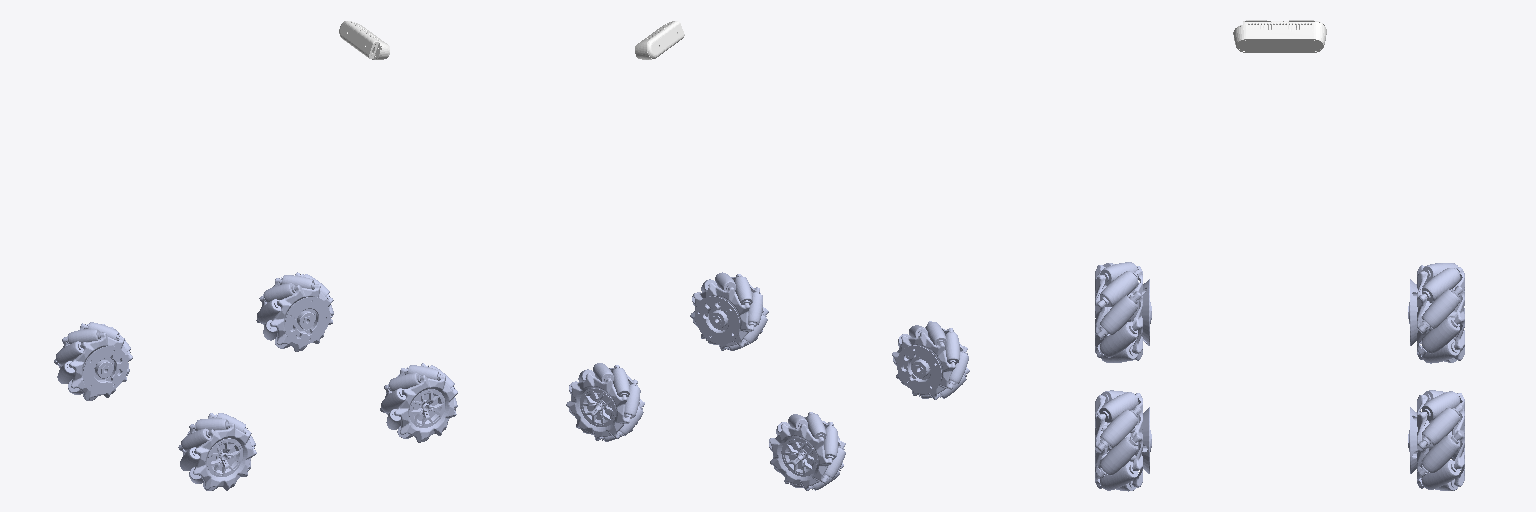
URDF robot description (bot):
<?xml version="1.0"?>
<!-- This URDF was automatically created by SolidWorks to URDF Exporter! Originally created by Stephen Brawner (brawner@gmail.com) 
     Commit Version: 1.6.0-4-g7f85cfe  Build Version: 1.6.7995.38578
     For more information, please see http://wiki.ros.org/sw_urdf_exporter -->
<robot
  name="bot">
  <link
    name="base_link">
    <inertial>
      <origin
        xyz="0.0090355 -0.00081058 0.054985"
        rpy="0 0 0" />
      <mass
        value="3.8106" />
      <inertia
        ixx="0.0099101"
        ixy="4.1861E-06"
        ixz="-2.3327E-05"
        iyy="0.0095546"
        iyz="1.2673E-06"
        izz="0.014844" />
    </inertial>
    <visual>
      <origin
        xyz="0 0 0"
        rpy="0 0 0" />
      <geometry>
        <mesh
          filename="package://bot_urdf/meshes/base_link.STL" />
      </geometry>
      <material
        name="">
        <color
          rgba="0.79216 0.81961 0.93333 1" />
      </material>
    </visual>
    <collision>
      <origin
        xyz="0 0 0"
        rpy="0 0 0" />
      <geometry>
        <mesh
          filename="package://bot_urdf/meshes/base_link.STL" />
      </geometry>
    </collision>
  </link>
  <link
    name="whl_1">
    <inertial>
      <origin
        xyz="-4.6546643535636E-05 0.0184649144401945 -9.60864166317521E-06"
        rpy="0 0 0" />
      <mass
        value="0.161925631703351" />
      <inertia
        ixx="2.91585888217252E-05"
        ixy="3.04375273962305E-08"
        ixz="-3.53176898294463E-09"
        iyy="3.99354081282925E-05"
        iyz="6.22129550900563E-09"
        izz="2.91745211707256E-05" />
    </inertial>
    <visual>
      <origin
        xyz="0 0 0"
        rpy="0 0 0" />
      <geometry>
        <mesh
          filename="package://bot_urdf/meshes/whl_1.STL" />
      </geometry>
      <material
        name="">
        <color
          rgba="0.792156862745098 0.819607843137255 0.933333333333333 1" />
      </material>
    </visual>
    <collision>
      <origin
        xyz="0 0 0"
        rpy="0 0 0" />
      <geometry>
        <mesh
          filename="package://bot_urdf/meshes/whl_1.STL" />
      </geometry>
    </collision>
  </link>
  <joint
    name="base_to_whl_1"
    type="continuous">
    <origin
      xyz="-0.14617 -0.17071 0.00893"
      rpy="0 0 0" />
    <parent
      link="base_link" />
    <child
      link="whl_1" />
    <axis
      xyz="0 1 0" />
  </joint>
  <link
    name="whl_2">
    <inertial>
      <origin
        xyz="-1.42304344429856E-05 0.0184648963324513 -4.53413374142814E-05"
        rpy="0 0 0" />
      <mass
        value="0.161925540652592" />
      <inertia
        ixx="2.91737150546211E-05"
        ixy="9.37189437559857E-09"
        ixz="-4.960431769033E-09"
        iyy="3.99353659653103E-05"
        iyz="2.96158387822672E-08"
        izz="2.91593473966099E-05" />
    </inertial>
    <visual>
      <origin
        xyz="0 0 0"
        rpy="0 0 0" />
      <geometry>
        <mesh
          filename="package://bot_urdf/meshes/whl_2.STL" />
      </geometry>
      <material
        name="">
        <color
          rgba="0.792156862745098 0.819607843137255 0.933333333333333 1" />
      </material>
    </visual>
    <collision>
      <origin
        xyz="0 0 0"
        rpy="0 0 0" />
      <geometry>
        <mesh
          filename="package://bot_urdf/meshes/whl_2.STL" />
      </geometry>
    </collision>
  </link>
  <joint
    name="base_to_whl_2"
    type="continuous">
    <origin
      xyz="0.14544 -0.17065 0.0088896"
      rpy="0 0 0" />
    <parent
      link="base_link" />
    <child
      link="whl_2" />
    <axis
      xyz="0 1 0" />
  </joint>
  <link
    name="whl_3">
    <inertial>
      <origin
        xyz="-4.75208019316276E-05 -0.018464912170312 2.07987491535055E-07"
        rpy="0 0 0" />
      <mass
        value="0.161925572925952" />
      <inertia
        ixx="2.91578320363315E-05"
        ixy="-3.10735992953256E-08"
        ixz="1.62865442558429E-10"
        iyy="3.99353787068514E-05"
        iyz="7.59677902960821E-11"
        izz="2.91752481149221E-05" />
    </inertial>
    <visual>
      <origin
        xyz="0 0 0"
        rpy="0 0 0" />
      <geometry>
        <mesh
          filename="package://bot_urdf/meshes/whl_3.STL" />
      </geometry>
      <material
        name="">
        <color
          rgba="0.792156862745098 0.819607843137255 0.933333333333333 1" />
      </material>
    </visual>
    <collision>
      <origin
        xyz="0 0 0"
        rpy="0 0 0" />
      <geometry>
        <mesh
          filename="package://bot_urdf/meshes/whl_3.STL" />
      </geometry>
    </collision>
  </link>
  <joint
    name="base_to_whl_3"
    type="continuous">
    <origin
      xyz="-0.14607 0.16884 0.008895"
      rpy="0 0 0" />
    <parent
      link="base_link" />
    <child
      link="whl_3" />
    <axis
      xyz="0 -1 0" />
  </joint>
  <link
    name="whl_4">
    <inertial>
      <origin
        xyz="3.89172170524588E-05 -0.0184649028365155 2.72989481698155E-05"
        rpy="0 0 0" />
      <mass
        value="0.161925524937385" />
      <inertia
        ixx="2.91634990423733E-05"
        ixy="2.53961263494293E-08"
        ixz="-8.19472232340164E-09"
        iyy="3.9935338181181E-05"
        iyz="1.78964048312848E-08"
        izz="2.91695348973513E-05" />
    </inertial>
    <visual>
      <origin
        xyz="0 0 0"
        rpy="0 0 0" />
      <geometry>
        <mesh
          filename="package://bot_urdf/meshes/whl_4.STL" />
      </geometry>
      <material
        name="">
        <color
          rgba="0.792156862745098 0.819607843137255 0.933333333333333 1" />
      </material>
    </visual>
    <collision>
      <origin
        xyz="0 0 0"
        rpy="0 0 0" />
      <geometry>
        <mesh
          filename="package://bot_urdf/meshes/whl_4.STL" />
      </geometry>
    </collision>
  </link>
  <joint
    name="base_to_whl_4"
    type="continuous">
    <origin
      xyz="0.14531 0.16879 0.0089084"
      rpy="0 0 0" />
    <parent
      link="base_link" />
    <child
      link="whl_4" />
    <axis
      xyz="0 -1 0" />
  </joint>
  <link
    name="camera">
    <inertial>
      <origin
        xyz="0 0 0"
        rpy="0 0 0" />
      <mass
        value="0.01" />
      <inertia
        ixx="1e-06"
        ixy="0"
        ixz="0"
        iyy="1e-06"
        iyz="0"
        izz="1e-06" />
    </inertial>
    <visual>
      <origin
        xyz="0 0 0"
        rpy="0 0 0" />
      <geometry>
        <mesh
          filename="package://bot_urdf/meshes/camera.STL" />
      </geometry>
      <material
        name="">
        <color
          rgba="1 1 1 1" />
      </material>
    </visual>
    <collision>
      <origin
        xyz="0 0 0"
        rpy="0 0 0" />
      <geometry>
        <mesh
          filename="package://bot_urdf/meshes/camera.STL" />
      </geometry>
    </collision>
  </link>
  <joint
    name="base_to_camera"
    type="fixed">
    <origin
      xyz="0.16726 -0.00092784 0.43836"
      rpy="0 0.38397 0" />
    <parent
      link="base_link" />
    <child
      link="camera" />
    <axis
      xyz="0 0 0" />
  </joint>

  <!-- ============ Gazebo: surface friction for wheels ============ -->
  <gazebo reference="whl_1">
    <mu1>1.0</mu1>
    <mu2>1.0</mu2>
    <kp>500000.0</kp>
    <kd>10.0</kd>
  </gazebo>
  <gazebo reference="whl_2">
    <mu1>1.0</mu1>
    <mu2>1.0</mu2>
    <kp>500000.0</kp>
    <kd>10.0</kd>
  </gazebo>
  <gazebo reference="whl_3">
    <mu1>1.0</mu1>
    <mu2>1.0</mu2>
    <kp>500000.0</kp>
    <kd>10.0</kd>
  </gazebo>
  <gazebo reference="whl_4">
    <mu1>1.0</mu1>
    <mu2>1.0</mu2>
    <kp>500000.0</kp>
    <kd>10.0</kd>
  </gazebo>

  <!-- ============ Gazebo: holonomic planar move (mecanum) ============ -->
  <gazebo>
    <plugin name="bot_planar_move" filename="libgazebo_ros_planar_move.so">
      <ros>
        <remapping>cmd_vel:=cmd_vel</remapping>
        <remapping>odom:=odom</remapping>
      </ros>
      <update_rate>50</update_rate>
      <publish_rate>50</publish_rate>
      <publish_odom>true</publish_odom>
      <publish_odom_tf>true</publish_odom_tf>
      <odometry_frame>odom</odometry_frame>
      <robot_base_frame>base_link</robot_base_frame>
    </plugin>
  </gazebo>

  <!-- ============ Gazebo: joint state publisher ============ -->
  <gazebo>
    <plugin name="bot_joint_state" filename="libgazebo_ros_joint_state_publisher.so">
      <ros>
        <remapping>~/out:=joint_states</remapping>
      </ros>
      <update_rate>50</update_rate>
      <joint_name>base_to_whl_1</joint_name>
      <joint_name>base_to_whl_2</joint_name>
      <joint_name>base_to_whl_3</joint_name>
      <joint_name>base_to_whl_4</joint_name>
    </plugin>
  </gazebo>

</robot>

--- What the picture shows (computed from the rendered views, not written in the file) ---
Views: 3 orthographic renders of the robot side by side, from view 1: azimuth 30°, elevation 25°; view 2: azimuth 150°, elevation 25°; view 3: azimuth 270°, elevation 25°.
Model bot with 6 links and 5 joints (4 continuous, 1 fixed), rooted at base_link, posed every joint at zero.
Visible links, largest first — view 1: whl_4, whl_2, whl_3, whl_1, camera; view 2: whl_3, whl_1, whl_2, whl_4, camera; view 3: whl_2, whl_4, whl_1, whl_3, camera.
Boxes of the visible links, x1,y1,x2,y2 form: whl_4: (256, 272, 333, 351); whl_2: (380, 363, 457, 442); whl_3: (54, 322, 132, 400); whl_1: (178, 413, 256, 490); camera: (339, 21, 389, 59); whl_3: (769, 412, 845, 490); whl_1: (892, 321, 969, 399); whl_2: (690, 272, 768, 350); whl_4: (566, 363, 644, 441); camera: (635, 21, 684, 59); whl_2: (1095, 390, 1151, 491); whl_4: (1408, 390, 1464, 490); whl_1: (1095, 262, 1151, 362); whl_3: (1408, 263, 1464, 363); camera: (1233, 20, 1326, 52).
Size in the robot's own frame: 0.3885 by 0.3556 by 0.4976 metres.
5 mesh visuals loaded from 6 distinct referenced files (5 binary STL); not drawn: 1 (reference not matched to a file when rendering).
